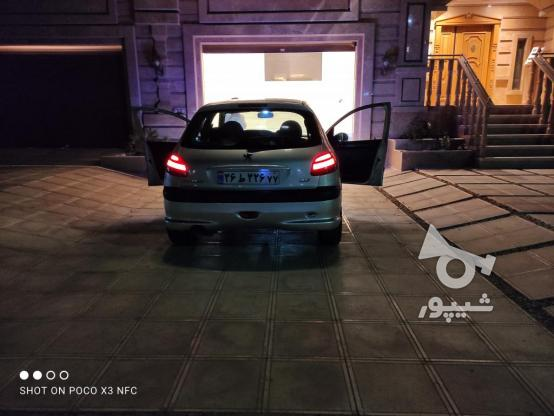car: (213, 171, 280, 185)
